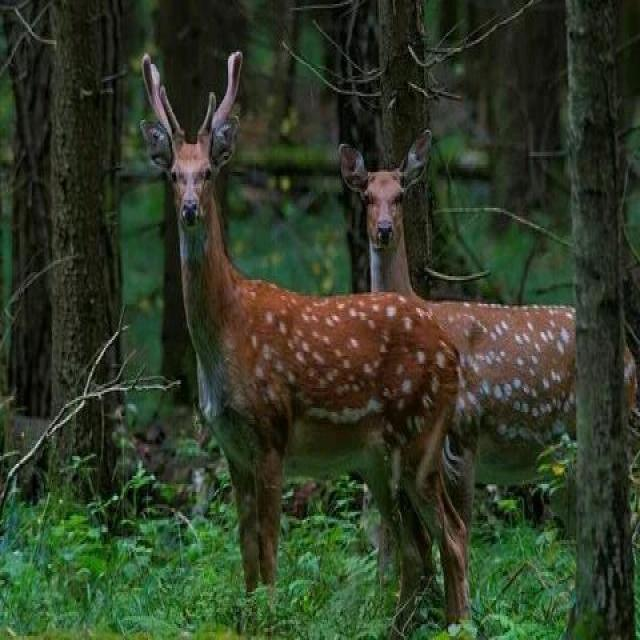deer: (101, 83, 451, 553), (344, 193, 616, 515)
